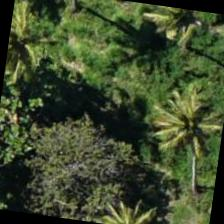Kelapa_Sawit: (147, 80, 223, 180), (132, 3, 223, 72), (5, 0, 72, 78)
